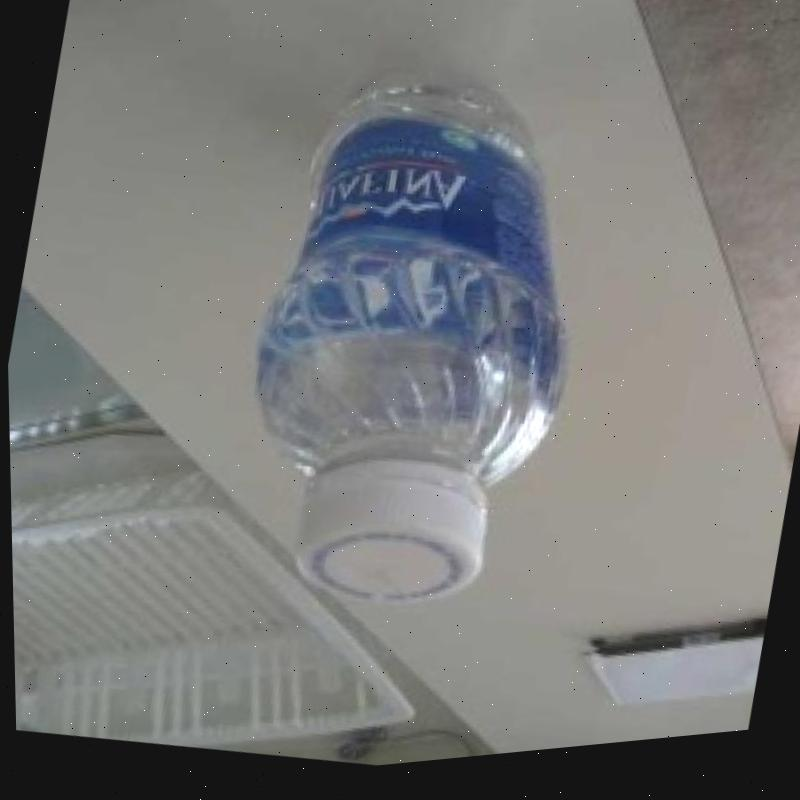botella: (200, 49, 622, 650)
